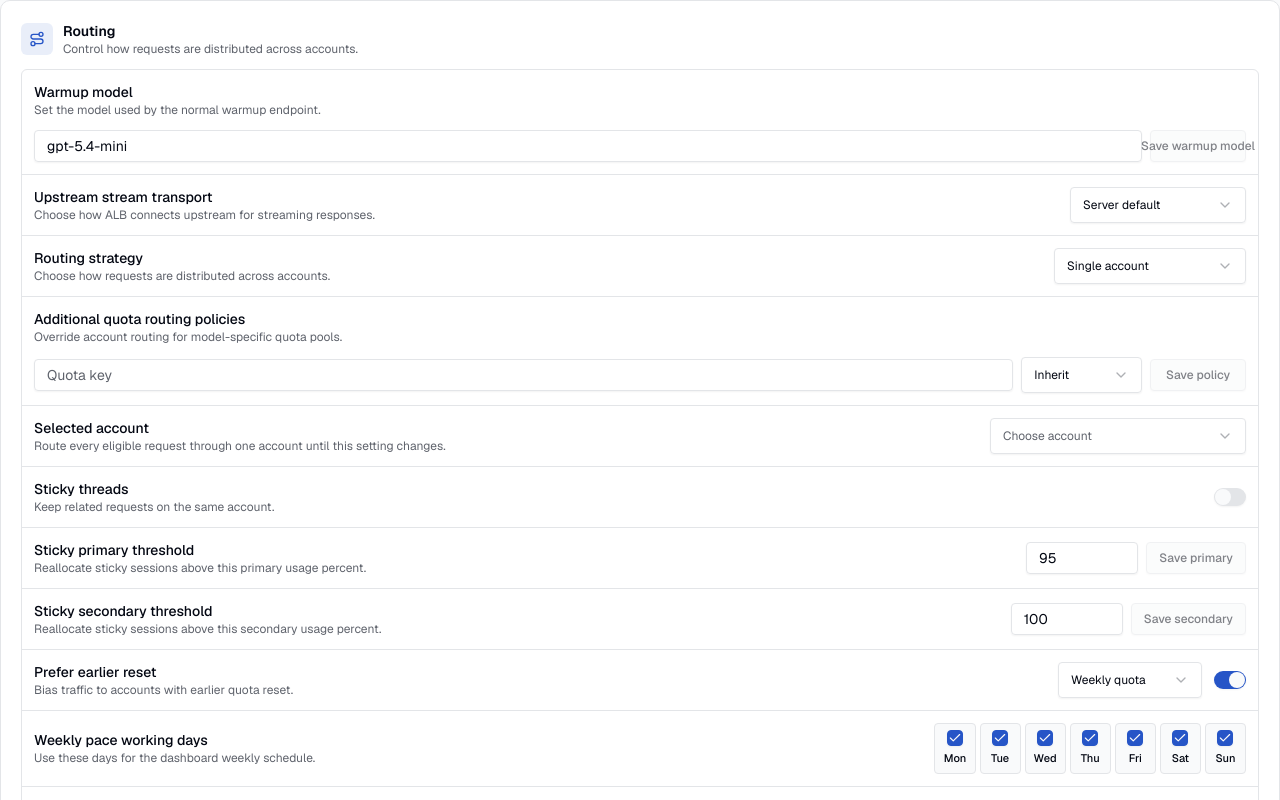
Test: RoutingSettings › excludes hard-blocked accounts from single-account routing choices
This screenshot has width=1280, height=800.
Step 1. Click the dropdown named "Selected account" → (1118, 436), box [990,418,1246,454]
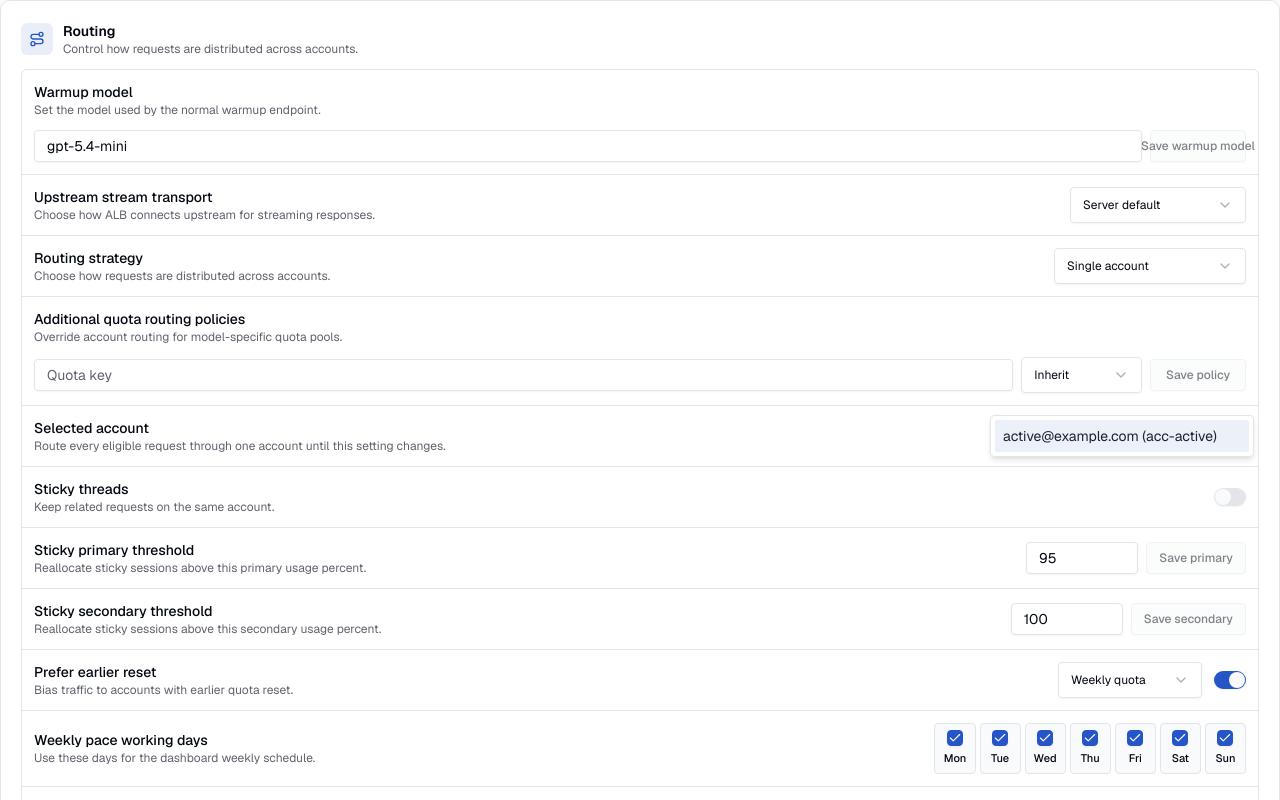
Expected: the option "active@example.com (acc-active)" is shown, [995,420,1249,452]
